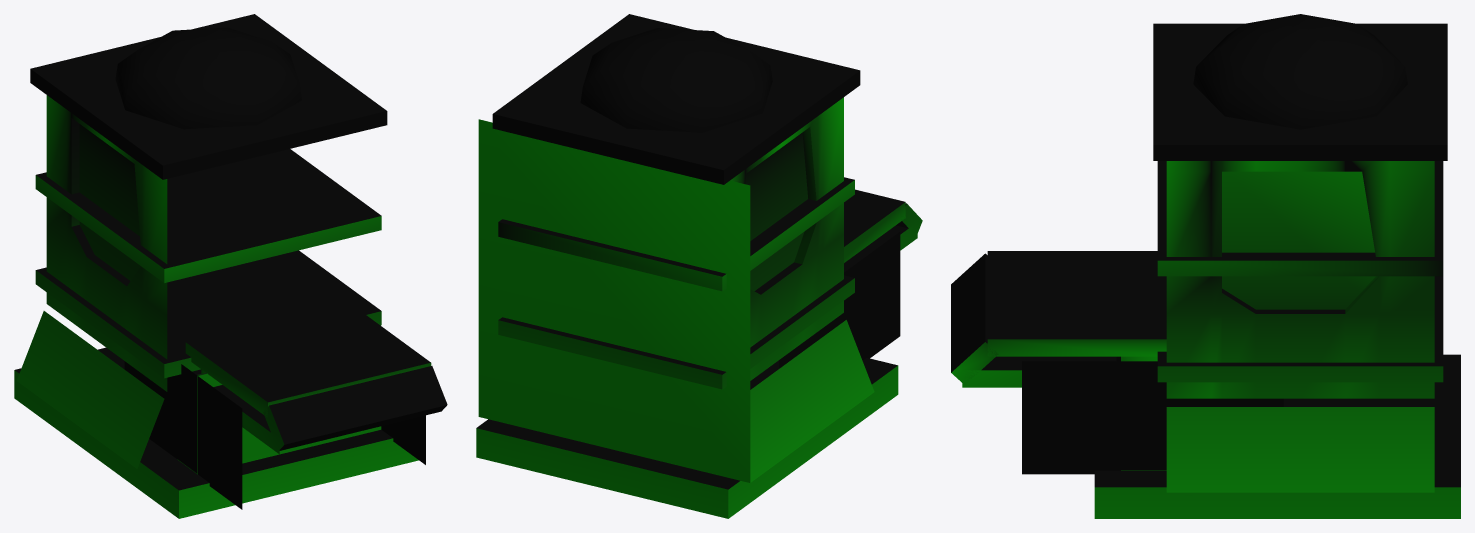
Rendered from l_lightpost.glb.
The picture shows the model from 3 angles, left to right: view 1: azimuth 30°, elevation 25°; view 2: azimuth 150°, elevation 25°; view 3: azimuth 270°, elevation 25°; orthographic projection. The views are drawn at different scales.
Parts seen in each view (by area): view 1: lod0; view 2: lod0; view 3: lod0.
Part boxes in pixels (x1,y1,x2,y2): lod0: (14, 14, 447, 518); lod0: (476, 14, 922, 518); lod0: (951, 14, 1460, 518).
Size of what is drawn, in the model's own units: 3.88 by 5.36 by 5.85.
